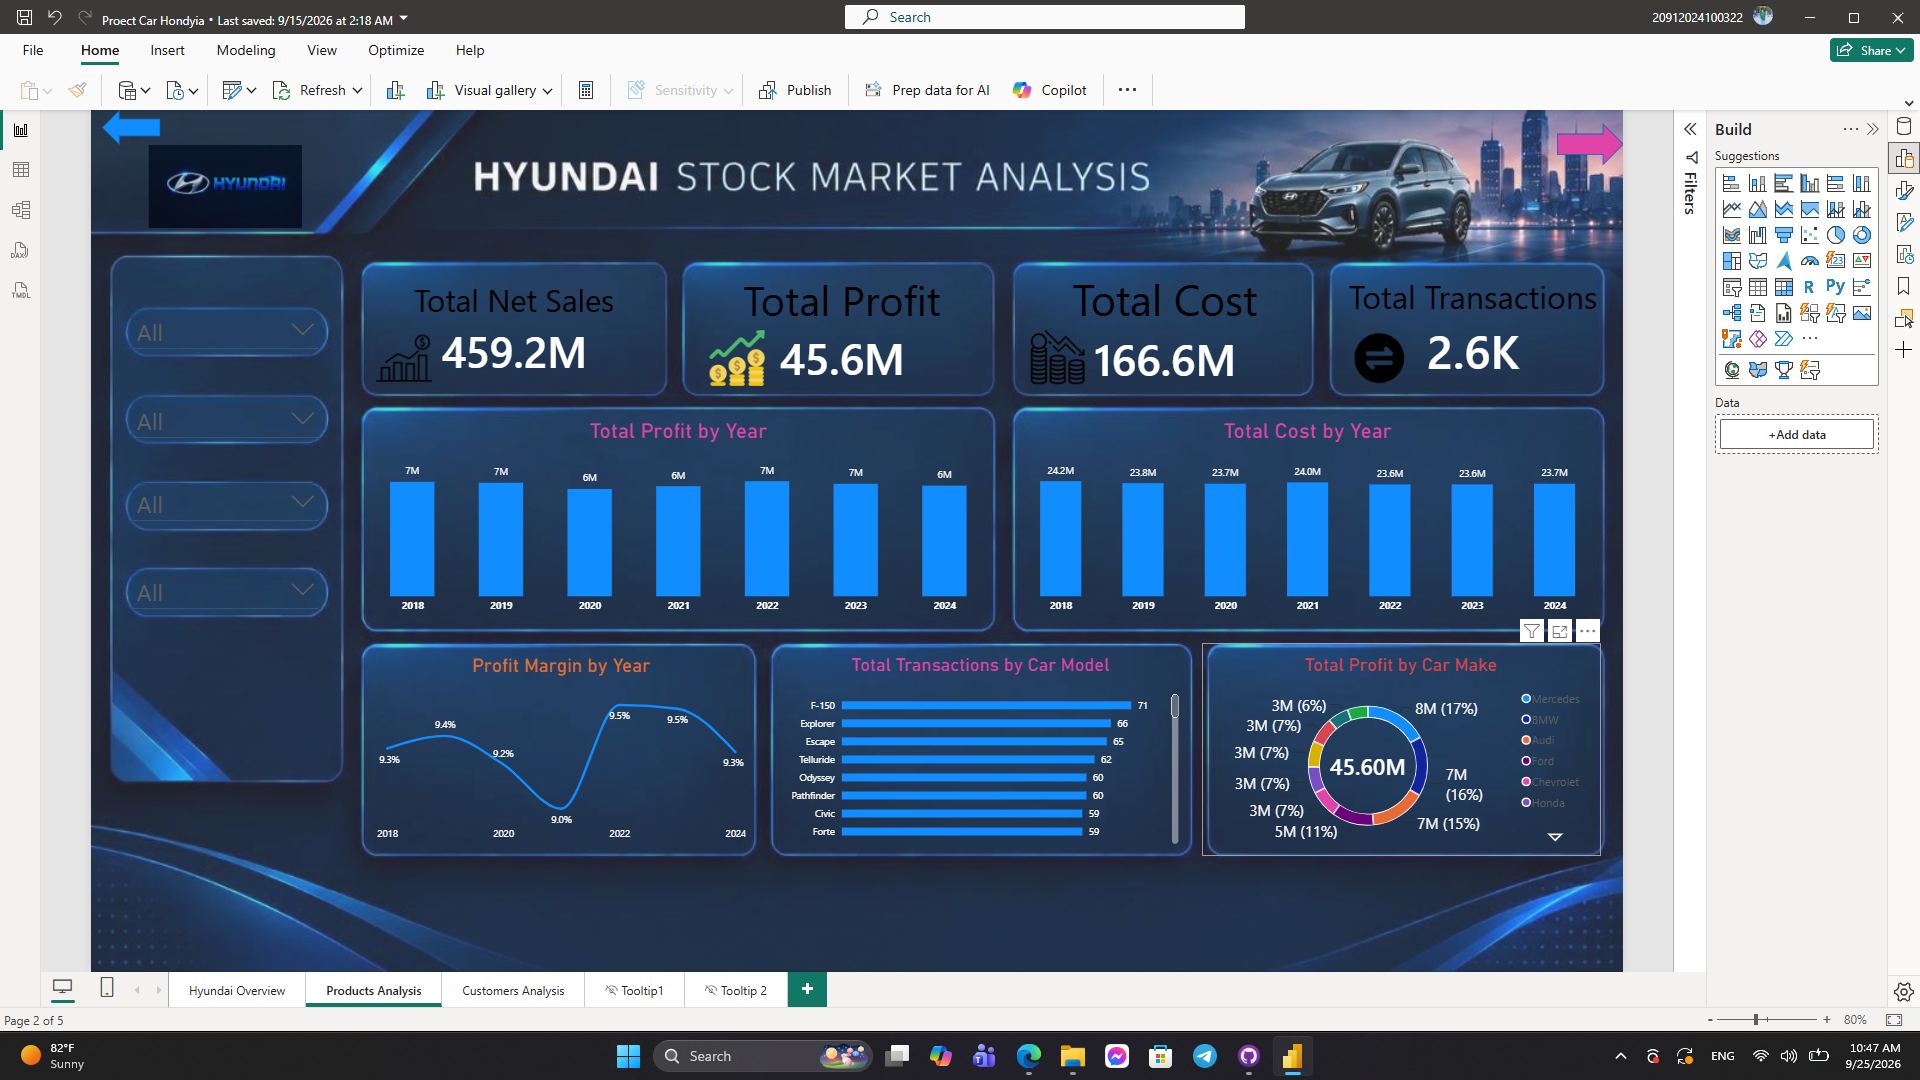

This screenshot's page, from the dashboard's own definition file:
{"tool":"powerbi","page":{"name":"Products Analysis ","canvas":[1920,1080],"ordinal":1},"visuals":[{"type":"slicer","fields":{"Values":["Calendar.Date.Variation.Date Hierarchy.Year"]},"box":[46.9,246.4,244.9,59],"z":0},{"type":"slicer","fields":{"Values":["car_sales_2018_2024_enhanced.Car Make"]},"box":[46.9,358.3,244.9,59],"z":1},{"type":"slicer","fields":{"Values":["car_sales_2018_2024_enhanced.Car Model"]},"box":[46.9,462.6,244.9,59],"z":2},{"type":"slicer","fields":{"Values":["Calendar.Date.Variation.Date Hierarchy.Month"]},"box":[46.9,573,244.9,59],"z":3},{"type":"image","box":[66.5,43.9,203.5,103.7],"z":4},{"type":"cardVisual","fields":{"Data":["Key Measure.Total Net Sales"]},"box":[341.7,192,376.4,167.8],"z":5},{"type":"cardVisual","fields":{"Data":["Key Measure.Total Cost"]},"box":[1158,192,376.4,167.8],"z":7},{"type":"cardVisual","fields":{"Data":["Key Measure.Total Transactions"]},"box":[1543.6,190.5,376.4,167.8],"z":8},{"type":"cardVisual","fields":{"Data":["Key Measure.Total Profit"]},"box":[752.9,192,376.4,167.8],"z":9},{"type":"columnChart","title":"Total Profit by Year","fields":{"Category":["Calendar.Date.Variation.Date Hierarchy.Year","Calendar.Date.Variation.Date Hierarchy.Quarter","Calendar.Date.Variation.Date Hierarchy.Month","Calendar.Date.Variation.Date Hierarchy.Day"],"Y":["Sum(car_sales_2018_2024_enhanced.Profit)"]},"box":[341.7,371.9,787.7,278.2],"z":10},{"type":"columnChart","title":"Total Cost  by Year","fields":{"Category":["Calendar.Date.Variation.Date Hierarchy.Year","Calendar.Date.Variation.Date Hierarchy.Quarter","Calendar.Date.Variation.Date Hierarchy.Month","Calendar.Date.Variation.Date Hierarchy.Day"],"Y":["Sum(car_sales_2018_2024_enhanced.Cost)"]},"box":[1158,371.9,733.2,278.2],"z":11},{"type":"lineChart","fields":{"Category":["Calendar.Date.Variation.Date Hierarchy.Year"],"Y":["Key Measure.Profit Margin"]},"box":[341.7,668.2,494.4,267.6],"z":12},{"type":"donutChart","title":"Total  Profit by Car Make","fields":{"Category":["car_sales_2018_2024_enhanced.Car Make"],"Y":["Sum(car_sales_2018_2024_enhanced.Profit)"]},"box":[1392.6,667.7,498.8,267.3],"z":13},{"type":"clusteredBarChart","fields":{"Category":["car_sales_2018_2024_enhanced.Car Model"],"Y":["Key Measure.Total Transactions"]},"box":[851.1,668.2,527.6,267.6],"z":14},{"type":"shape","box":[13.3,0,73.2,43.9],"z":15},{"type":"shape","box":[1836.9,16.6,83.8,53.2],"z":16},{"type":"image","box":[356.8,261.5,69.5,98.3],"z":17},{"type":"image","box":[768,275.1,83.1,69.5],"z":18},{"type":"image","box":[1174.7,275.1,71.1,68],"z":19},{"type":"image","box":[1570.8,276.7,86.2,68],"z":20}]}

Visuals, with their boxes on the page's 1920x1080 design canvas (x1, y1, x2, y2). These are canvas units, not pixel positions in the 1920x1080 screenshot, which may show the page scaled, cropped or inside an application window:
slicer - Calendar.Date.Variation.Date Hierarchy.Year: box=[47, 246, 292, 305]
slicer - car_sales_2018_2024_enhanced.Car Make: box=[47, 358, 292, 417]
slicer - car_sales_2018_2024_enhanced.Car Model: box=[47, 463, 292, 522]
slicer - Calendar.Date.Variation.Date Hierarchy.Month: box=[47, 573, 292, 632]
image: box=[66, 44, 270, 148]
cardVisual - Key Measure.Total Net Sales: box=[342, 192, 718, 360]
cardVisual - Key Measure.Total Cost: box=[1158, 192, 1534, 360]
cardVisual - Key Measure.Total Transactions: box=[1544, 190, 1920, 358]
cardVisual - Key Measure.Total Profit: box=[753, 192, 1129, 360]
"Total Profit by Year" columnChart: box=[342, 372, 1129, 650]
"Total Cost  by Year" columnChart: box=[1158, 372, 1891, 650]
lineChart - Calendar.Date.Variation.Date Hierarchy.Year x Key Measure.Profit Margin: box=[342, 668, 836, 936]
"Total  Profit by Car Make" donutChart: box=[1393, 668, 1891, 935]
clusteredBarChart - car_sales_2018_2024_enhanced.Car Model x Key Measure.Total Transactions: box=[851, 668, 1379, 936]
shape: box=[13, 0, 86, 44]
shape: box=[1837, 17, 1921, 70]
image: box=[357, 262, 426, 360]
image: box=[768, 275, 851, 345]
image: box=[1175, 275, 1246, 343]
image: box=[1571, 277, 1657, 345]
